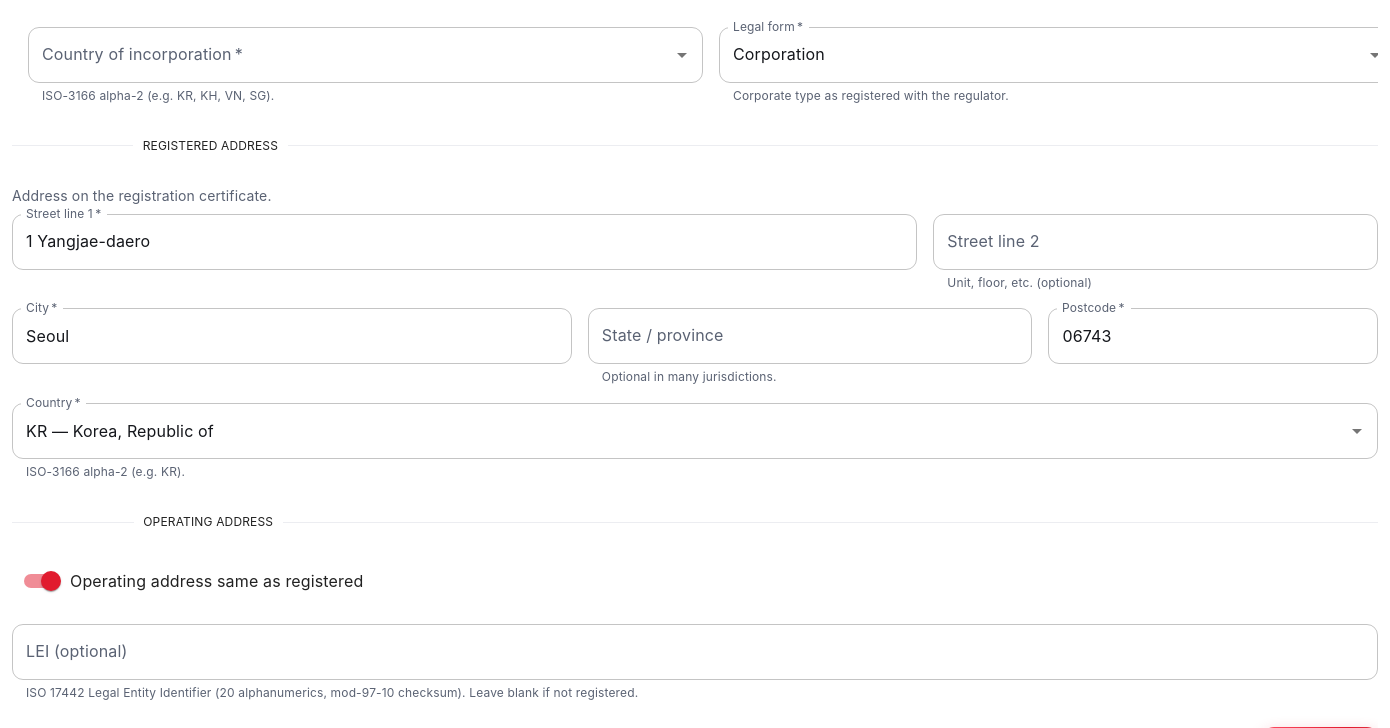
Test: IdentityForm › renders a separate operating-address block when "same as registered" is toggled off
This screenshot has width=1390, height=728.
(page scrolled)
Toggle off — operating block should appear.
What coordinates should you click on to do the following:
click the checkbox labelled "Operating address same as registered"
I would click on:
 (194, 581)
Its box is [24, 571, 363, 591].
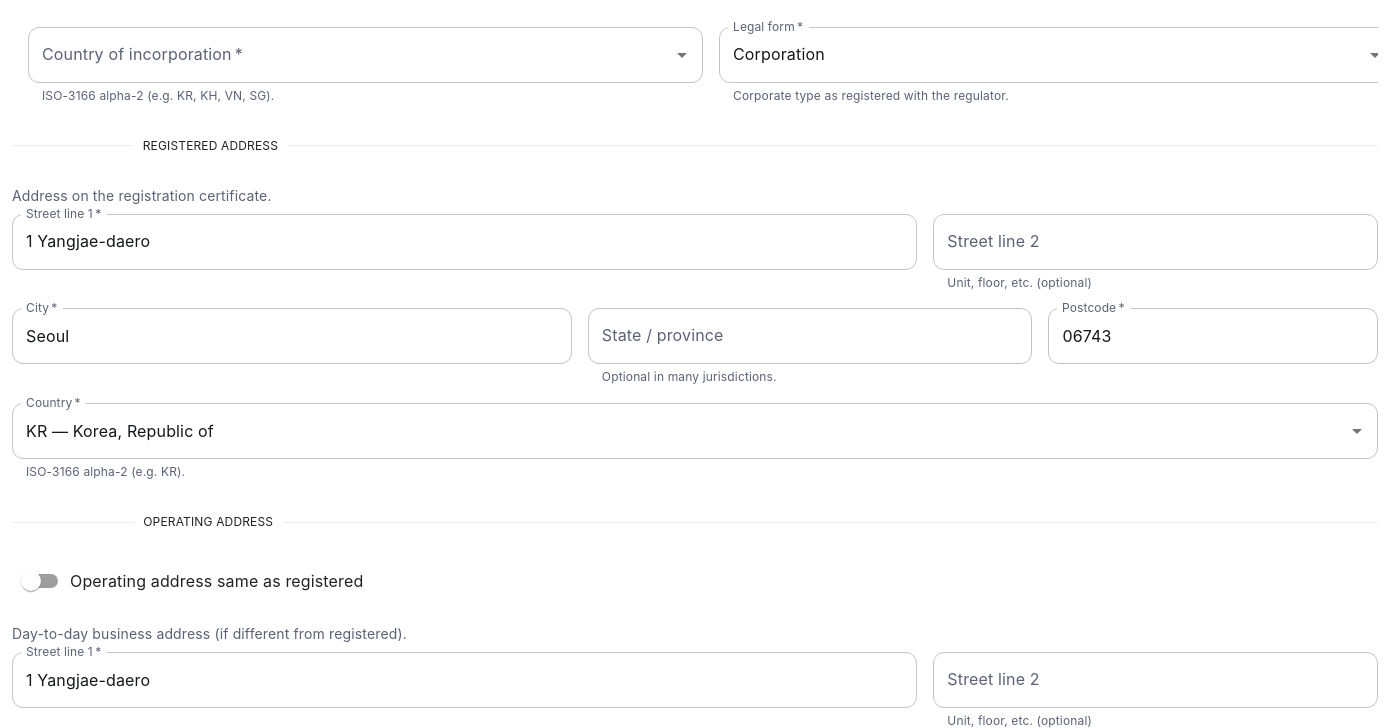
Expected: the field named "operatingAddress street1" is shown, [12, 652, 917, 708]
